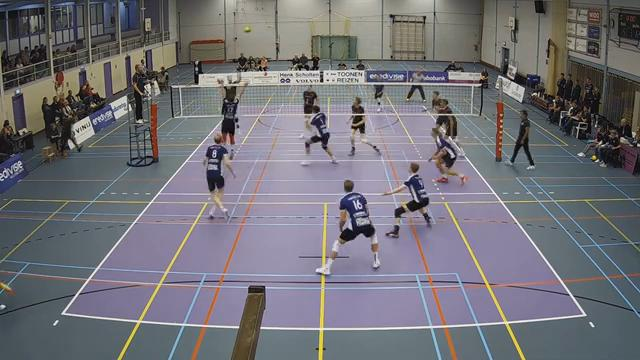Attack: (217, 67, 243, 100)
Block: (217, 80, 250, 159)
Player: (316, 180, 379, 274), (382, 163, 430, 237), (203, 134, 234, 218), (431, 128, 467, 184), (348, 97, 380, 155), (305, 105, 336, 163), (303, 85, 317, 132), (436, 98, 452, 134), (374, 84, 383, 111), (431, 91, 440, 111)
ball: (245, 26, 251, 33)
